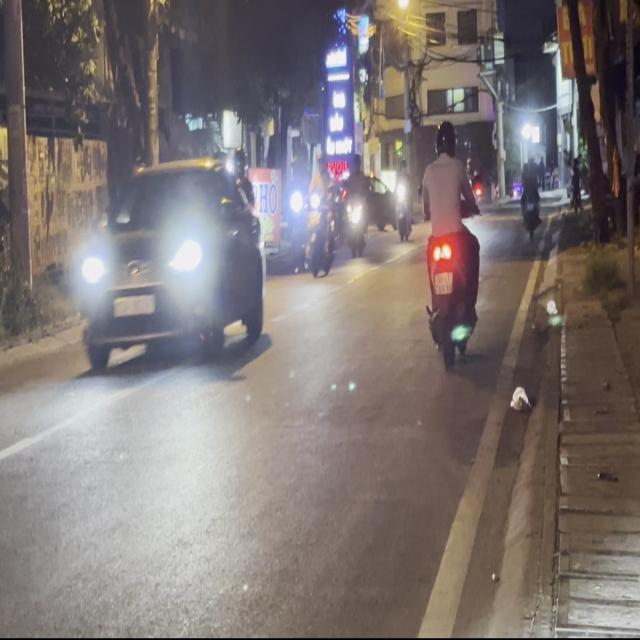helmet: (434, 118, 456, 156)
licenseplate: (419, 116, 481, 372)
nohelmet: (433, 272, 453, 295)
